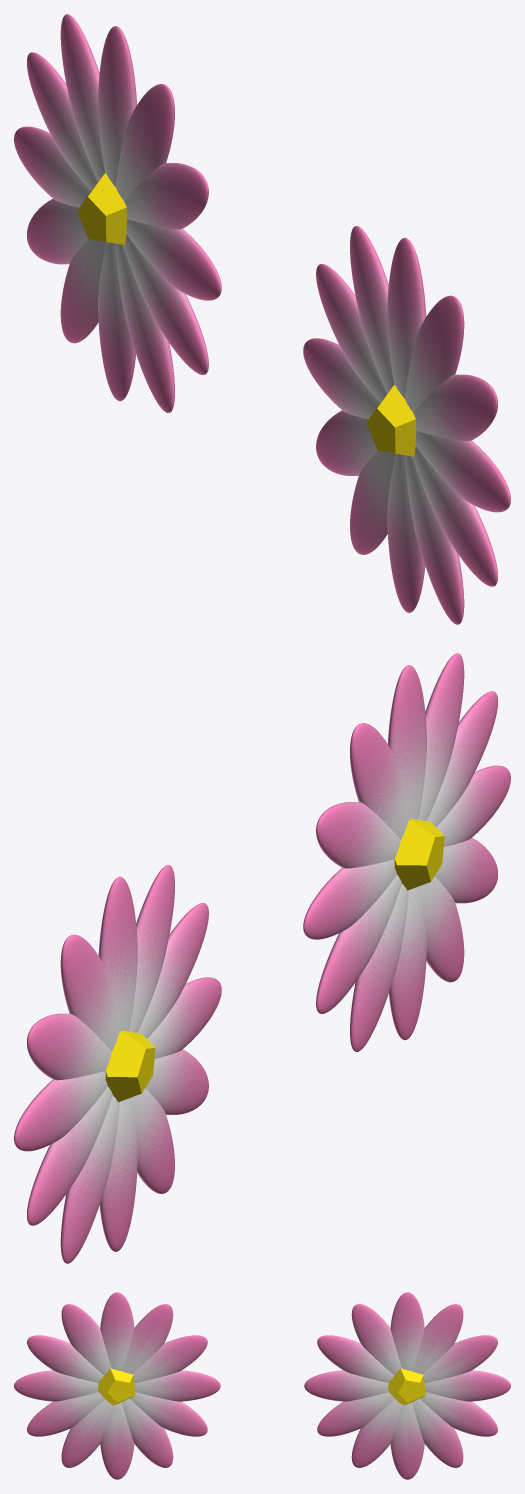
Rendered from SummerComing.gltf.
3 renders of one model, top to bottom at view 1: azimuth 30°, elevation 25°; view 2: azimuth 150°, elevation 25°; view 3: azimuth 270°, elevation 25°, orthographic. The views are drawn at different scales.
Parts seen in each view (by area): view 1: Sphere 15 (×2), Sphere 5 (×2), Sphere 14 (×2), Sphere 4 (×2), Sphere 6 (×2), Sphere 13 (×2), Sphere 7 (×2), Sphere 12 (×2), Sphere 8 (×2), Sphere 11 (×2), Sphere 9 (×2), Sphere 10 (×2) (+1 smaller); view 2: Sphere 10 (×2), Sphere 7 (×2), Sphere 9 (×2), Sphere 8 (×2), Sphere 6 (×2), Sphere 11 (×2), Sphere 5 (×2), Sphere 12 (×2), Sphere 4 (×2), Sphere 13 (×2), Sphere 15 (×2), Sphere 14 (×2) (+1 smaller); view 3: Sphere 6 (×2), Sphere 7 (×2), Sphere 4 (×2), Sphere 5 (×2), Sphere 8 (×2), Sphere 9 (×2), Sphere 15 (×2), Sphere 14 (×2), Sphere 10 (×2), Sphere 11 (×2), Sphere 13 (×2), Sphere 12 (×2) (+1 smaller).
Part boxes in pixels (x1,y1,x2,y2): Sphere 15 (×2): (126, 219, 510, 512); Sphere 5 (×2): (115, 84, 464, 412); Sphere 14 (×2): (123, 234, 497, 586); Sphere 4 (×2): (124, 163, 497, 441); Sphere 6 (×2): (98, 26, 426, 398); Sphere 13 (×2): (115, 243, 464, 624); Sphere 7 (×2): (60, 14, 394, 393); Sphere 12 (×2): (98, 242, 425, 612); Sphere 8 (×2): (27, 52, 386, 402); Sphere 11 (×2): (60, 239, 395, 554); Sphere 9 (×2): (14, 126, 379, 419); Sphere 10 (×2): (27, 199, 377, 475); Sphere 10 (×2): (27, 875, 401, 1225); Sphere 7 (×2): (60, 723, 408, 1051); Sphere 9 (×2): (14, 859, 396, 1151); Sphere 8 (×2): (27, 802, 400, 1080); Sphere 6 (×2): (98, 665, 426, 1031); Sphere 11 (×2): (60, 884, 408, 1263); Sphere 5 (×2): (129, 653, 464, 1032); Sphere 12 (×2): (99, 886, 426, 1251); Sphere 4 (×2): (138, 691, 497, 1038); Sphere 13 (×2): (130, 876, 464, 1193); Sphere 15 (×2): (147, 765, 510, 1058); Sphere 14 (×2): (145, 838, 497, 1114); Sphere 6 (×2): (100, 1292, 424, 1371); Sphere 7 (×2): (122, 1304, 463, 1374); Sphere 4 (×2): (27, 1335, 394, 1382); Sphere 5 (×2): (61, 1304, 401, 1375); Sphere 8 (×2): (132, 1335, 497, 1383); Sphere 9 (×2): (134, 1370, 510, 1401); Sphere 15 (×2): (14, 1370, 389, 1401); Sphere 14 (×2): (27, 1392, 394, 1436); Sphere 10 (×2): (129, 1392, 497, 1436); Sphere 11 (×2): (121, 1398, 463, 1467); Sphere 13 (×2): (61, 1399, 402, 1467); Sphere 12 (×2): (100, 1402, 424, 1479).
Size of the model in its own units: 0.0518 by 0.2882 by 0.6927.
Materials: 3 (2 with a texture image).
